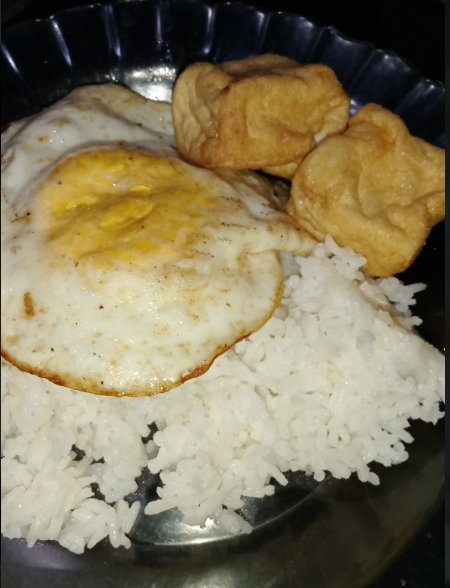kacang_legume: (354, 130, 416, 236), (217, 80, 303, 150)
makanan_berpati: (255, 334, 396, 459)
telur: (16, 135, 173, 354)
